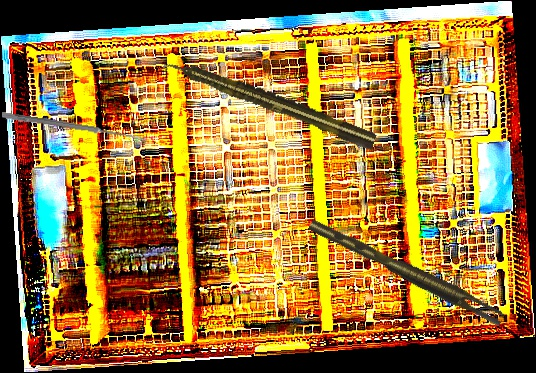Handpiece: (161, 52, 378, 152)
Surgical Spoon: (1, 111, 143, 142)
Tissue Forceps: (308, 209, 506, 333)
